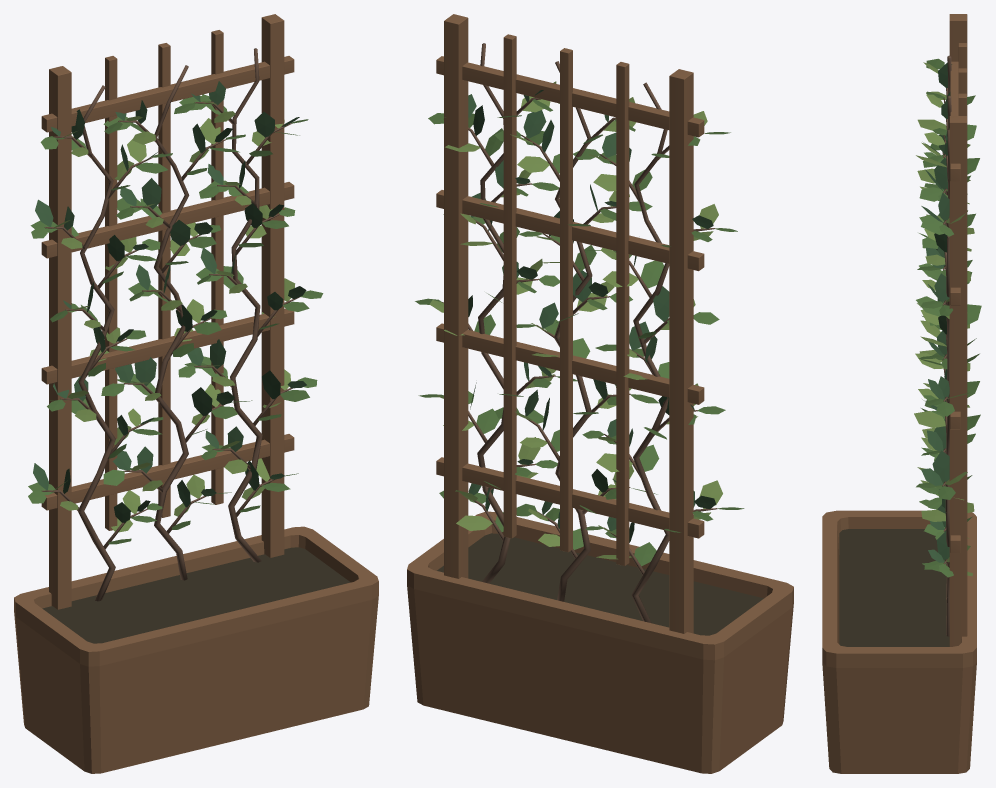
Rendered from rpg-mansion-garden-climbing-trellis-planter-01.glb.
3 views of the same model, side by side, from view 1: azimuth 30°, elevation 25°; view 2: azimuth 150°, elevation 25°; view 3: azimuth 270°, elevation 25° (orthographic). The views are drawn at different scales.
Parts seen in each view (by area): view 1: rpg-mansion-garden-climbing-trellis-planter-01; view 2: rpg-mansion-garden-climbing-trellis-planter-01; view 3: rpg-mansion-garden-climbing-trellis-planter-01.
Boxes of the visible parts, x1=… form: rpg-mansion-garden-climbing-trellis-planter-01: x1=14, y1=14, x2=378, y2=773; rpg-mansion-garden-climbing-trellis-planter-01: x1=407, y1=14, x2=793, y2=773; rpg-mansion-garden-climbing-trellis-planter-01: x1=822, y1=14, x2=981, y2=773.
Size of the model in its own units: 0.8509 by 1.75 by 0.3967.
